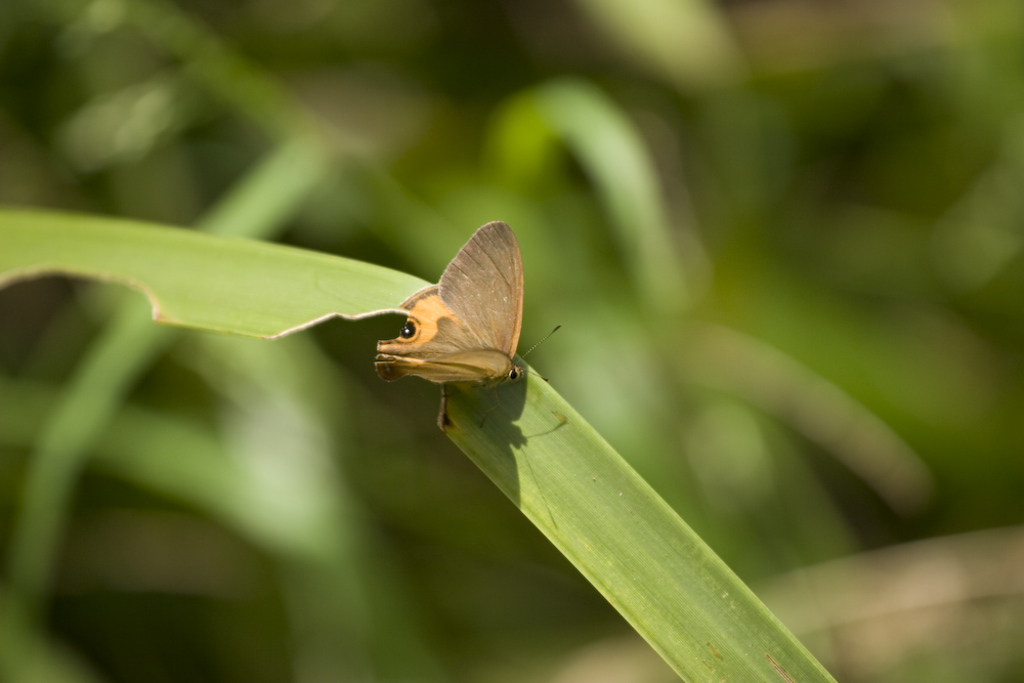Butterfly: (347, 212, 579, 442)
